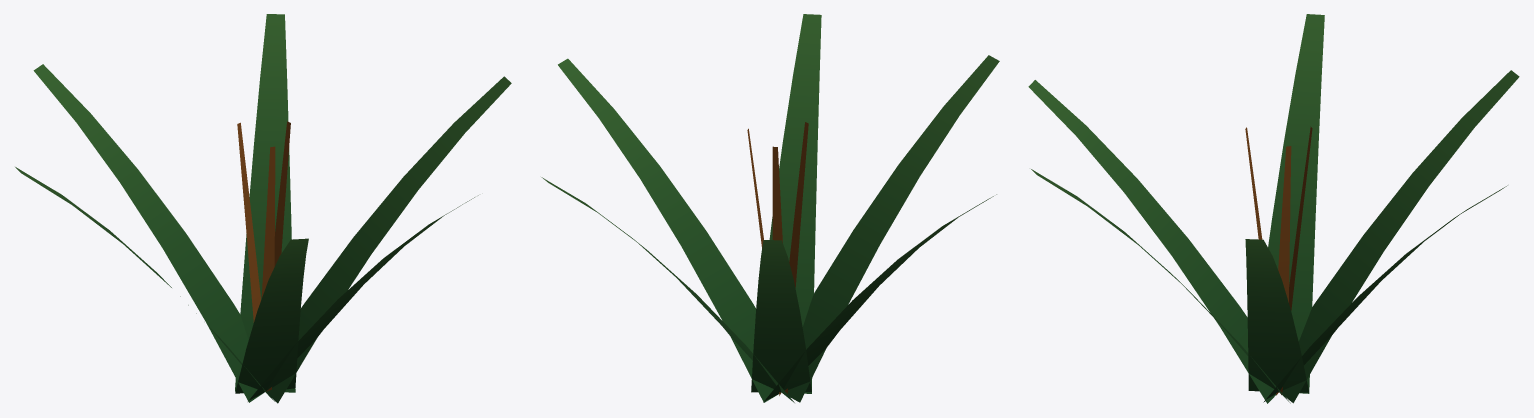
File: Fern_Cinnamon.glb
The picture shows the model from 3 angles, left to right: view 1: azimuth 30°, elevation 25°; view 2: azimuth 150°, elevation 25°; view 3: azimuth 270°, elevation 25°; orthographic projection.
Parts seen in each view (by area): view 1: Fern_Cinnamon; view 2: Fern_Cinnamon; view 3: Fern_Cinnamon.
Boxes of the visible parts, x1,y1,x2,y2 form: Fern_Cinnamon: (15, 14, 511, 403); Fern_Cinnamon: (541, 14, 999, 402); Fern_Cinnamon: (1028, 14, 1519, 403).
Bounding box in the file's own units: 1.05 × 0.5775 × 0.9689.
